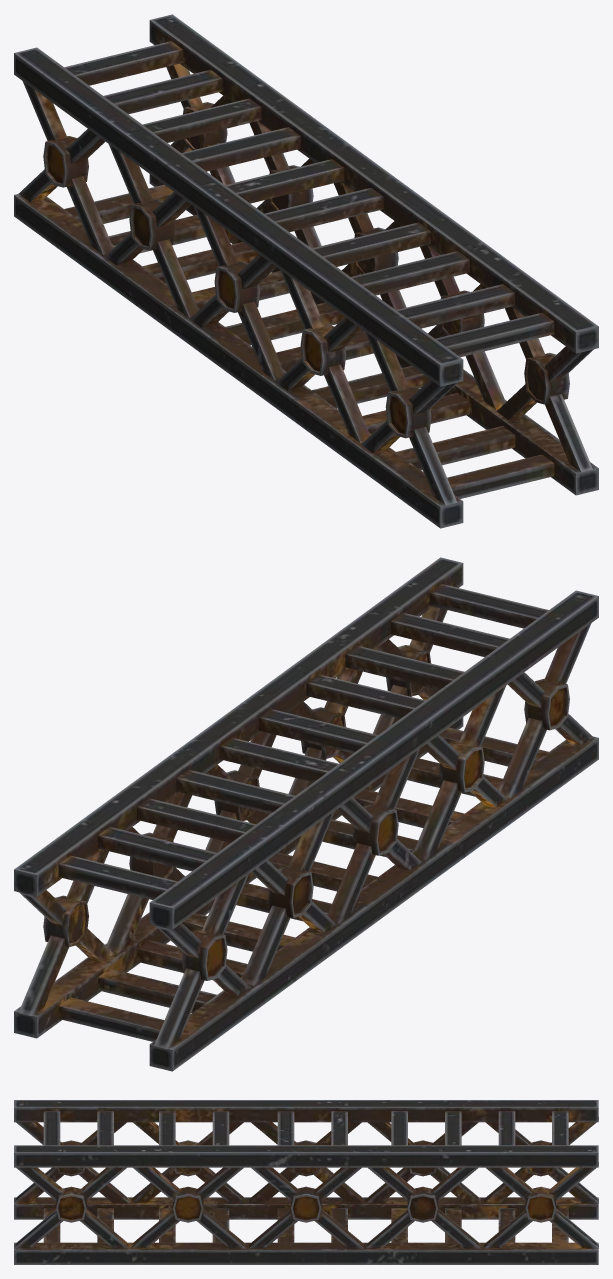
File: env-rails.glb
3 views of the same model, one above another, from view 1: azimuth 30°, elevation 25°; view 2: azimuth 150°, elevation 25°; view 3: azimuth 270°, elevation 25° (orthographic). The views are drawn at different scales.
Visible parts, largest first — view 1: SM_Rails_JFG_low_M_Rails_JFG_0; view 2: SM_Rails_JFG_low_M_Rails_JFG_0; view 3: SM_Rails_JFG_low_M_Rails_JFG_0.
Boxes of the visible parts, x1,y1,x2,y2 form: SM_Rails_JFG_low_M_Rails_JFG_0: [14, 14, 598, 528]; SM_Rails_JFG_low_M_Rails_JFG_0: [14, 557, 598, 1071]; SM_Rails_JFG_low_M_Rails_JFG_0: [14, 1100, 598, 1264].
Bounding box in the file's own units: 2.39 × 2.3 × 10.91.
1 material, 1 textured.
